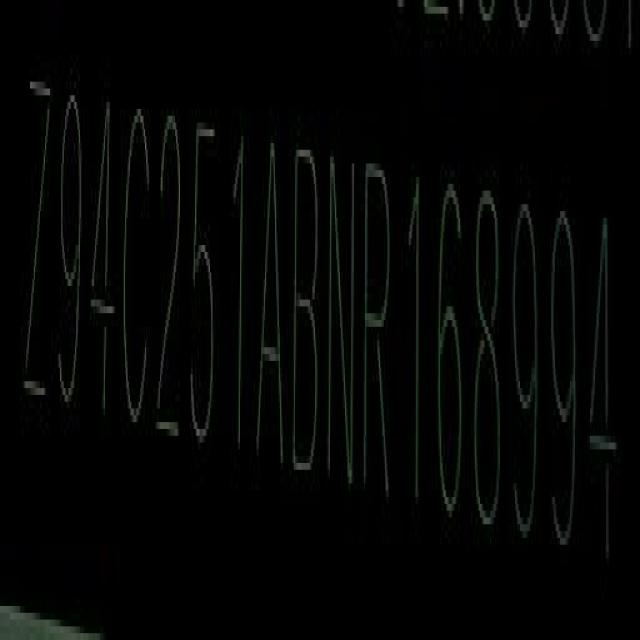1: (406, 172, 426, 513), (230, 126, 248, 453)
2: (156, 109, 182, 446)
4: (590, 201, 622, 570), (89, 90, 118, 423)
5: (192, 113, 220, 451)
6: (434, 177, 464, 517)
8: (472, 185, 502, 531)
9: (547, 207, 578, 561), (510, 196, 541, 548), (54, 93, 83, 411)
A: (250, 136, 289, 474)
B: (292, 136, 325, 480)
C: (122, 102, 155, 437)
N: (329, 142, 356, 482)
R: (366, 155, 396, 498)
Z: (22, 72, 48, 410)
